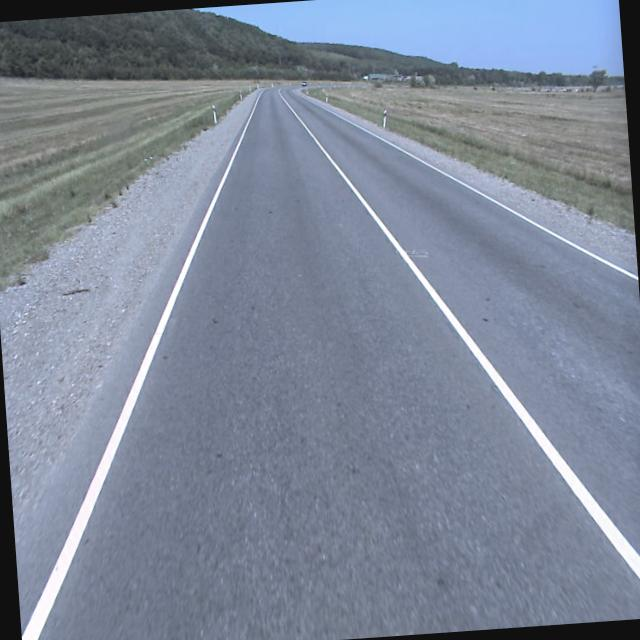road: (17, 84, 640, 640)
